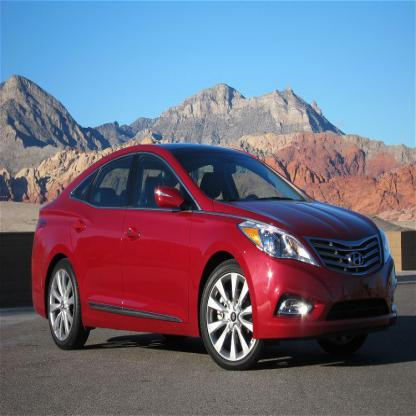Vehicle: (33, 146, 397, 371)
